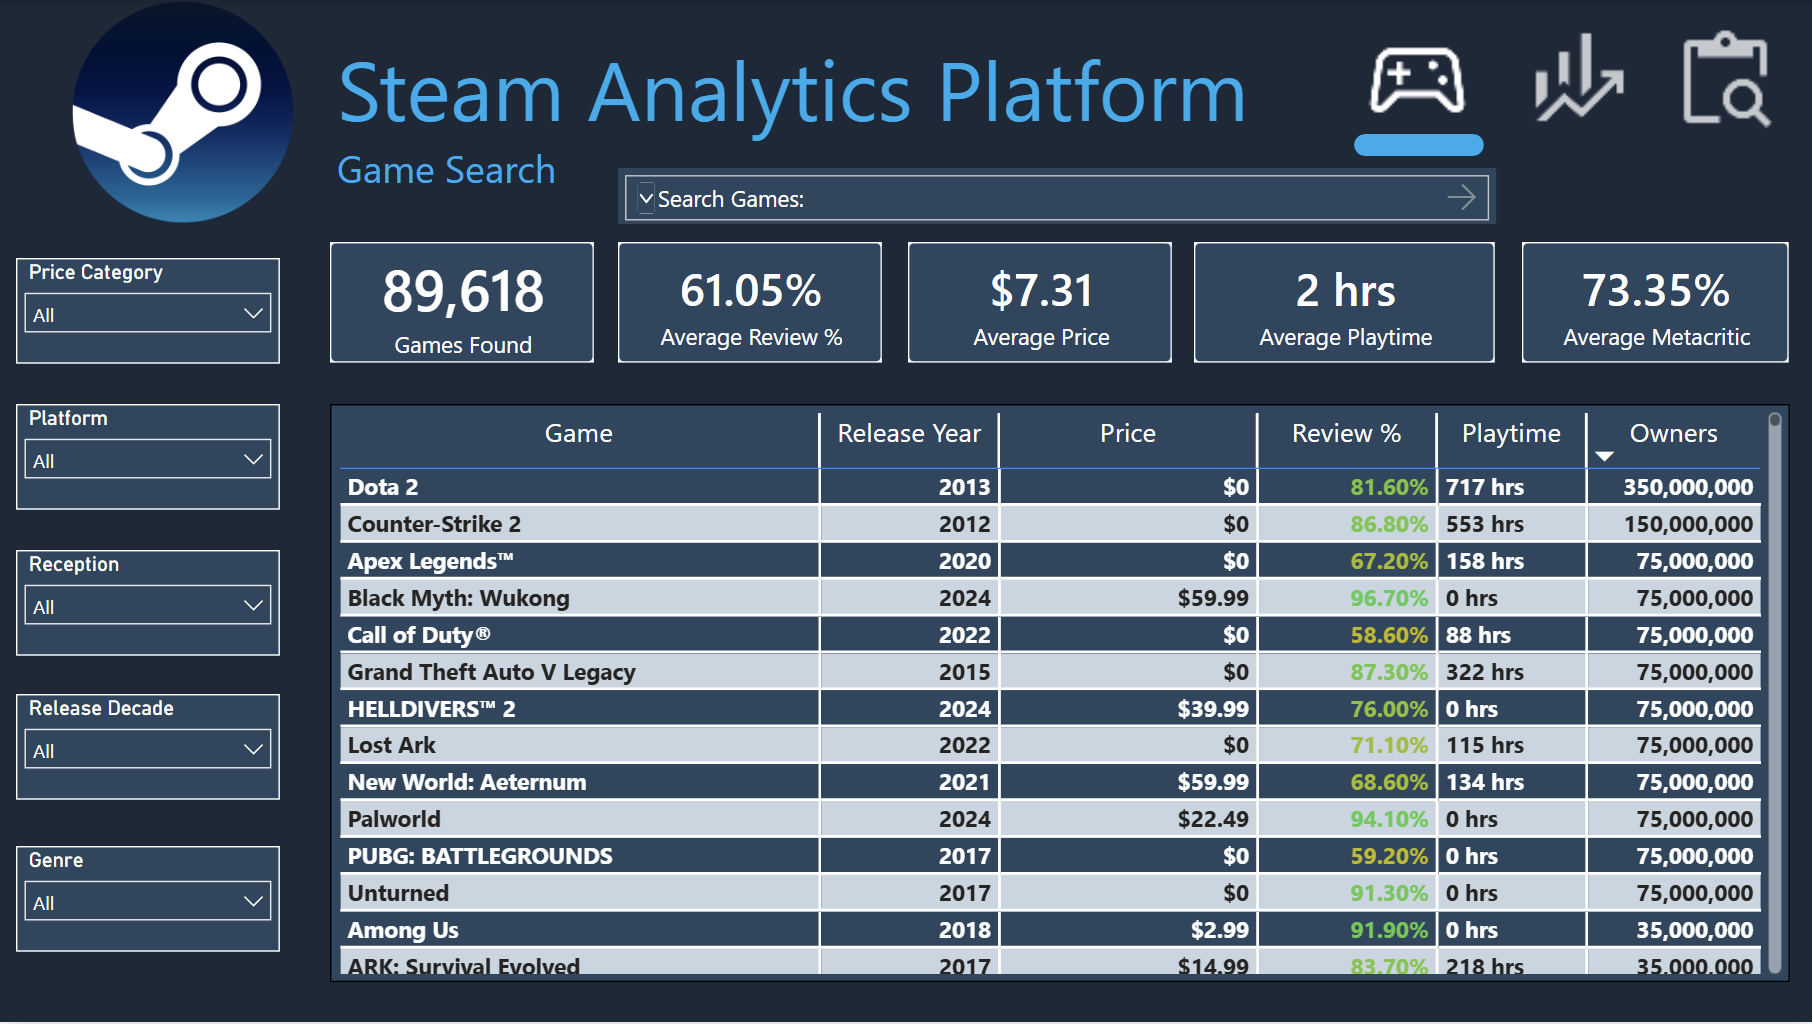

The page's visual inventory and layout, read from the dashboard file:
{"tool":"powerbi","page":{"name":"Game Search","canvas":[1280,720],"ordinal":0},"visuals":[{"type":"textbox","box":[232.6,16.9,1022,142.4],"z":0},{"type":"slicer","fields":{"Values":["games_gold.price_bucket"]},"box":[11.3,170.6,186.1,74.7],"z":1000},{"type":"slicer","fields":{"Values":["games_gold.release_decade"]},"box":[11.3,506.1,186.1,74.7],"z":2000},{"type":"slicer","fields":{"Values":["games_gold.playtime_bucket"]},"box":[11.3,617.4,186.1,74.7],"z":3000},{"type":"slicer","fields":{"Values":["games_gold.review_category"]},"box":[11.3,397.5,186.1,74.7],"z":4000},{"type":"slicer","fields":{"Values":["platforms.Platform"]},"box":[11.3,284.8,186.1,74.7],"z":5000},{"type":"cardVisual","fields":{"Data":["games_gold.Games Found"]},"box":[232.6,170.6,186.1,86],"z":6000},{"type":"cardVisual","fields":{"Data":["games_gold.Average Review %"]},"box":[435.6,170.6,186.1,86],"z":7000},{"type":"cardVisual","fields":{"Data":["games_gold.Average Price"]},"box":[640,170.6,186.1,86],"z":8000},{"type":"cardVisual","fields":{"Data":["games_gold.Average Playtime (hrs)"]},"box":[841.6,170.6,212.9,86],"z":9000},{"type":"cardVisual","fields":{"Data":["games_gold.Average Metacritic"]},"box":[1072.8,170.6,188.9,86],"z":10000},{"type":"image","box":[0,0,258,157.9],"z":11000},{"type":"tableEx","fields":{"Values":["games_gold.game_name","games_gold.price","games_gold.Average Review %","games_gold.Average Playtime (hrs)","games_gold.release_year","games_gold.estimated_owner_midpoint"]},"box":[232.6,284.8,1029.1,407.4],"z":12000},{"type":"textSlicer","fields":{"Values":["games_gold.game_name"]},"box":[435.6,118.4,618.9,39.5],"z":12001},{"type":"image","box":[960,16.9,78,78.9],"z":12002},{"type":"image","box":[1072.8,16.9,78,78],"z":12003},{"type":"shape","box":[954.4,94,91.6,15.5],"z":12005},{"type":"image","box":[1177.1,18.3,78,78],"z":12006}]}

Visuals, with their boxes in screenshot pixels (x1, y1, x2, y2), scaled from the page's 1280x720 canvas onto the 1812x1024 screenshot:
textbox: bbox(329, 24, 1776, 227)
slicer - games_gold.price_bucket: bbox(16, 243, 279, 349)
slicer - games_gold.release_decade: bbox(16, 720, 279, 826)
slicer - games_gold.playtime_bucket: bbox(16, 878, 279, 984)
slicer - games_gold.review_category: bbox(16, 565, 279, 672)
slicer - platforms.Platform: bbox(16, 405, 279, 511)
cardVisual - games_gold.Games Found: bbox(329, 243, 593, 365)
cardVisual - games_gold.Average Review %: bbox(617, 243, 880, 365)
cardVisual - games_gold.Average Price: bbox(906, 243, 1169, 365)
cardVisual - games_gold.Average Playtime (hrs): bbox(1191, 243, 1493, 365)
cardVisual - games_gold.Average Metacritic: bbox(1519, 243, 1786, 365)
image: bbox(0, 0, 365, 225)
tableEx - games_gold.game_name x games_gold.price: bbox(329, 405, 1786, 984)
textSlicer - games_gold.game_name: bbox(617, 168, 1493, 225)
image: bbox(1359, 24, 1469, 136)
image: bbox(1519, 24, 1629, 135)
shape: bbox(1351, 134, 1481, 156)
image: bbox(1666, 26, 1777, 137)
